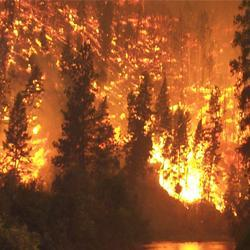fire: (159, 162, 201, 198)
